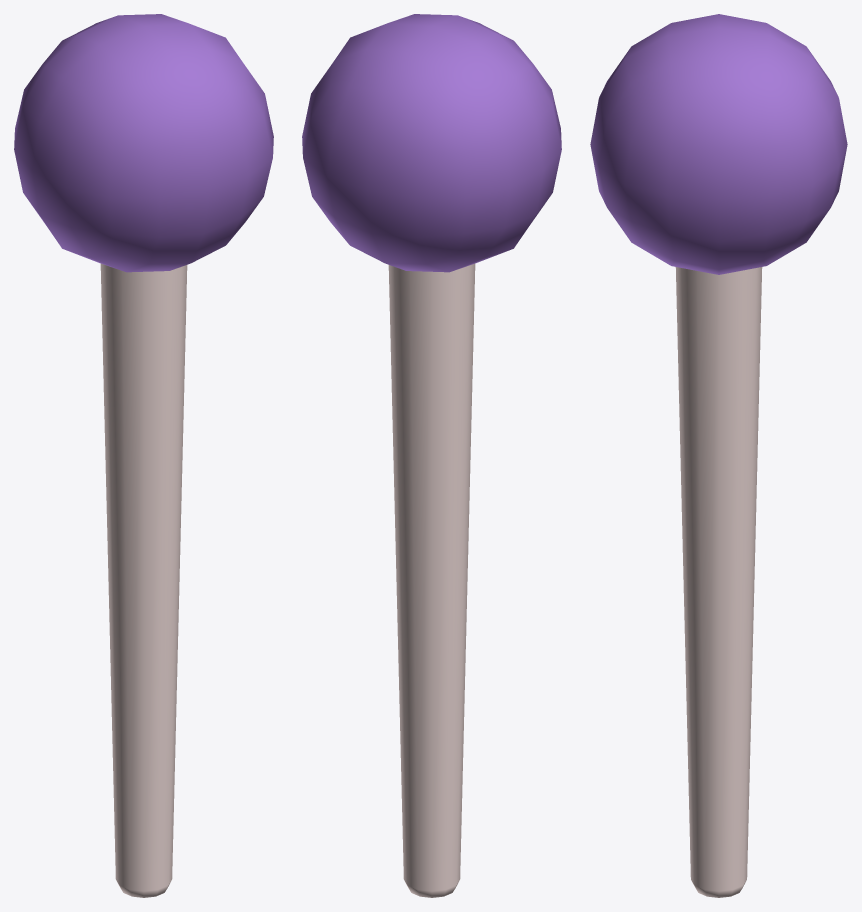
The model's file is Public_19_Needle_5.glb.
The picture shows the model from 3 angles, left to right: view 1: azimuth 30°, elevation 25°; view 2: azimuth 150°, elevation 25°; view 3: azimuth 270°, elevation 25°; orthographic projection.
Parts seen in each view (by area): view 1: Public_19_Needle_5; view 2: Public_19_Needle_5; view 3: Public_19_Needle_5.
Part boxes in pixels (x1,y1,x2,y2): Public_19_Needle_5: (14,14,273,897); Public_19_Needle_5: (302,14,561,897); Public_19_Needle_5: (590,14,847,897).
Size of the model in its own units: 0.1604 by 0.5941 by 0.1604.
Materials: 1 (1 with a texture image).
